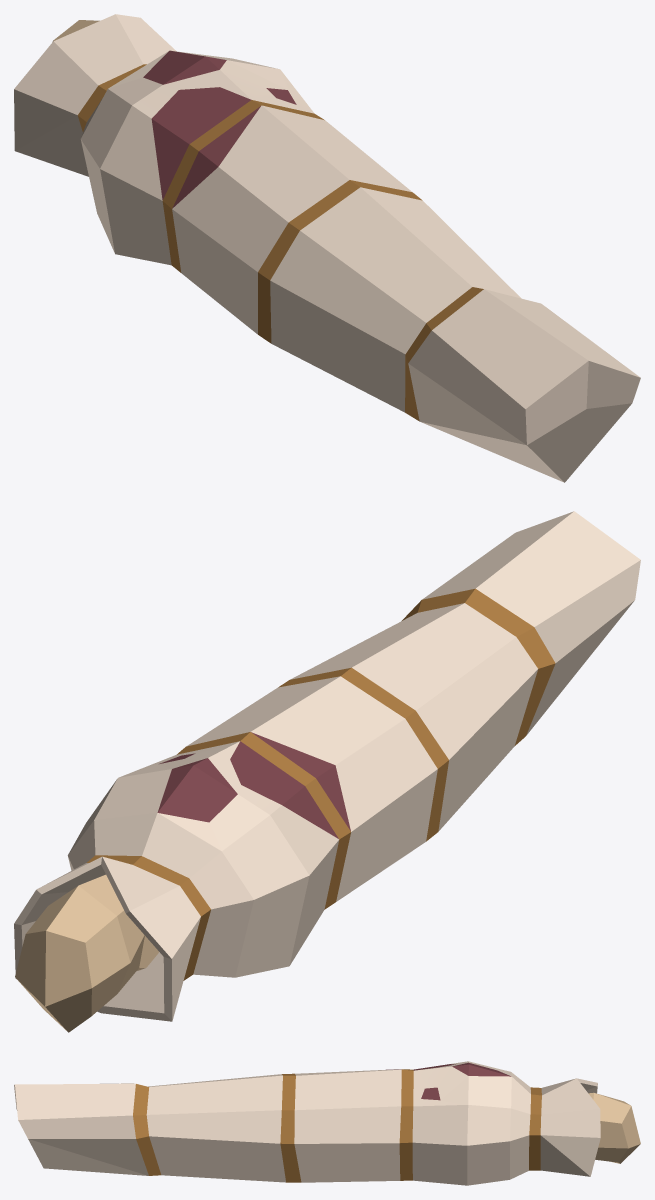
Rendered from apocalypse_body-packed-head-a.fbx.
3 views of the same model, one above another, from view 1: azimuth 30°, elevation 25°; view 2: azimuth 150°, elevation 25°; view 3: azimuth 270°, elevation 25° (orthographic). The views are drawn at different scales.
Visible parts, largest first — view 1: apocalypse_body_packed_head_a; view 2: apocalypse_body_packed_head_a; view 3: apocalypse_body_packed_head_a.
Boxes of the visible parts, x1=… form: apocalypse_body_packed_head_a: x1=14, y1=14, x2=640, y2=482; apocalypse_body_packed_head_a: x1=14, y1=511, x2=640, y2=1032; apocalypse_body_packed_head_a: x1=14, y1=1061, x2=640, y2=1185.
Size of the model in its own units: 47.78 by 36.99 by 200.
